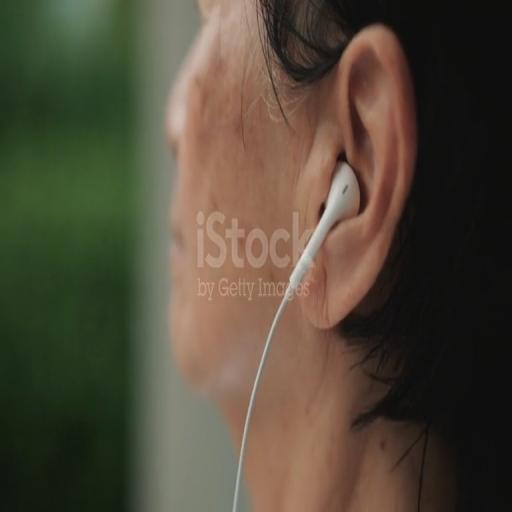earphone: (231, 146, 360, 512)
